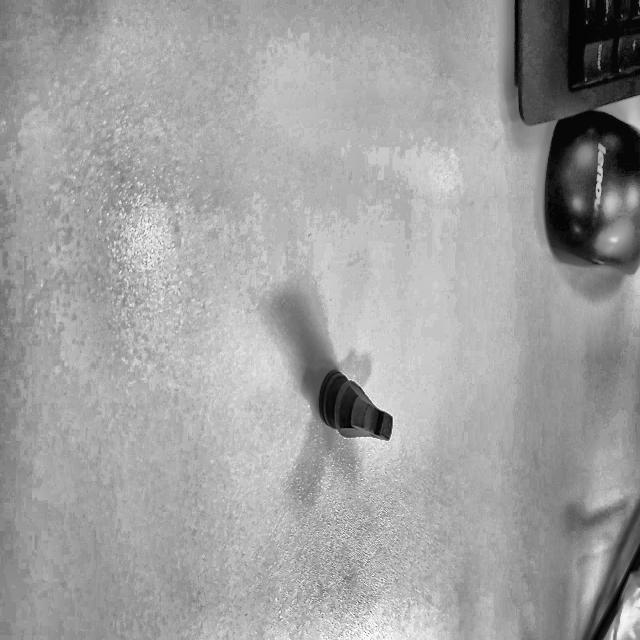black-knight: (309, 351, 397, 456)
